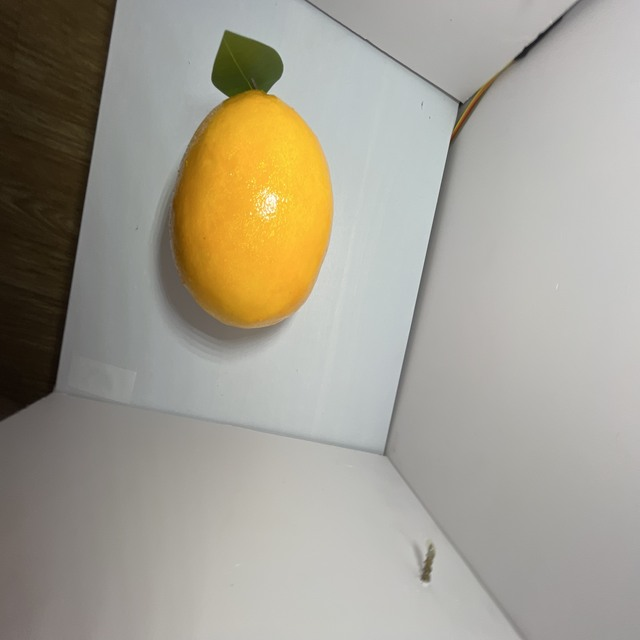Cam vang: (164, 86, 339, 333)
